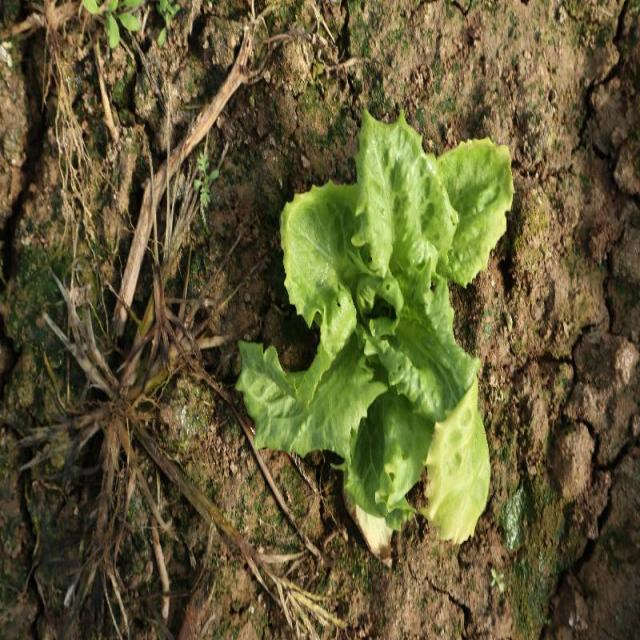crop: (232, 104, 515, 571)
